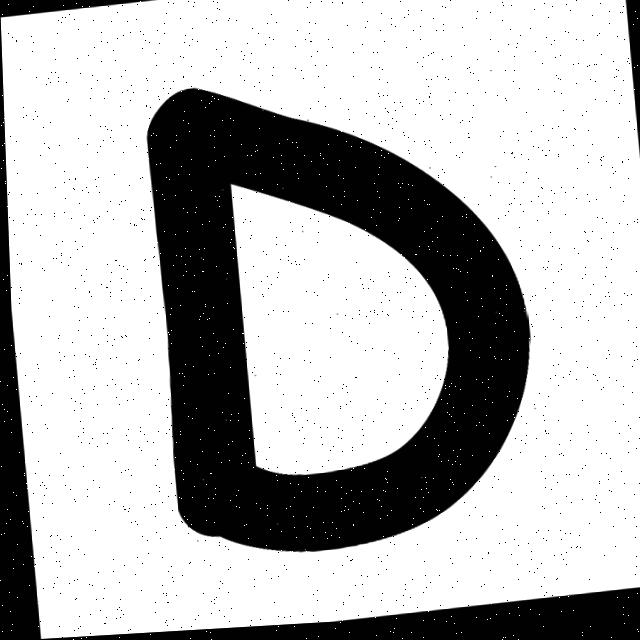D: (147, 91, 527, 555)
